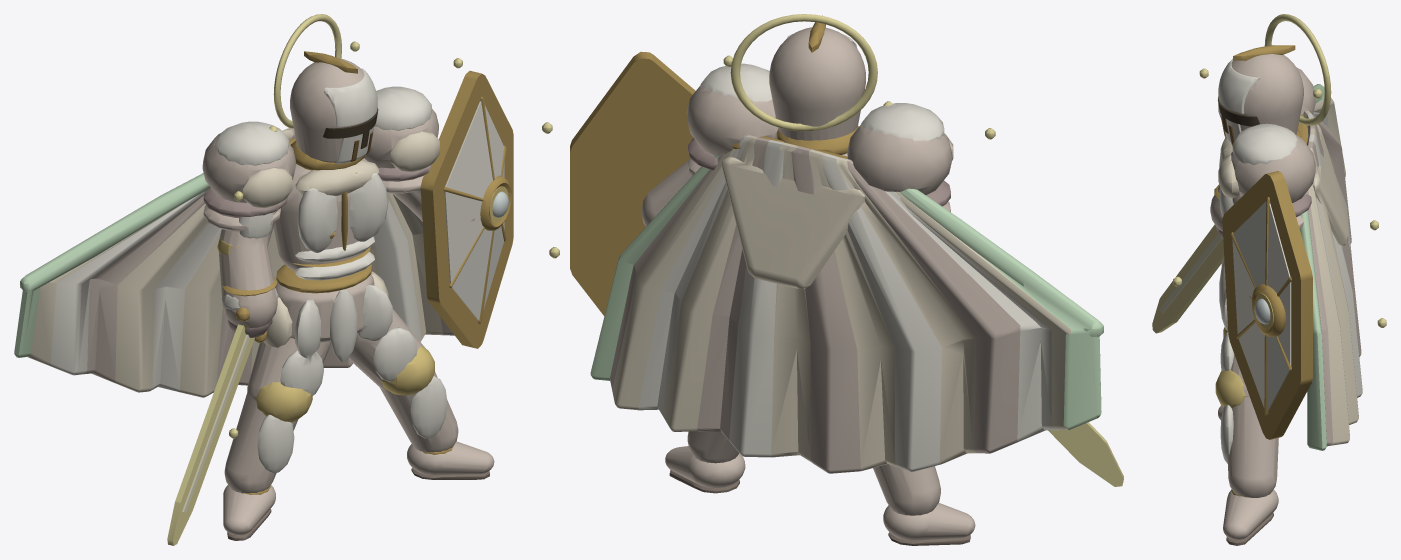
Rendered from gemknight_tenjin.glb.
3 renders of one model, left to right at view 1: azimuth 30°, elevation 25°; view 2: azimuth 150°, elevation 25°; view 3: azimuth 270°, elevation 25°, orthographic. The views are drawn at different scales.
Visible parts, largest first — view 1: creature; view 2: creature; view 3: creature.
Part boxes in pixels (x1,y1,x2,y2): creature: [14, 14, 513, 545]; creature: [542, 14, 1123, 545]; creature: [1152, 14, 1386, 545].
Size of the model in its own units: 1.08 by 1 by 0.4649.
